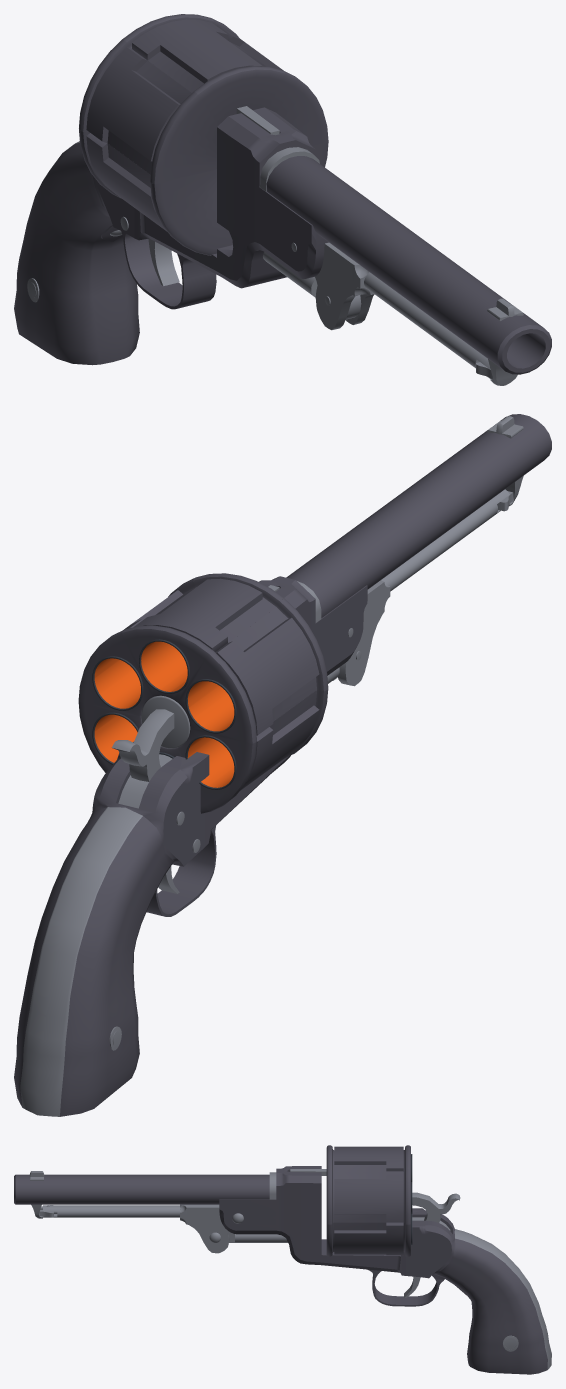
File: gun.fbx
3 renders of one model, top to bottom at view 1: azimuth 30°, elevation 25°; view 2: azimuth 150°, elevation 25°; view 3: azimuth 270°, elevation 25°, orthographic. The views are drawn at different scales.
Parts seen in each view (by area): view 1: gun, 2, 1, 3, 6, 4; view 2: gun, 2, 1, 3, 6, 5, base; view 3: gun, 6, 5, 1.
Boxes of the visible parts, <box> form: gun: <box>14,106,551,385</box>; 2: <box>79,39,217,184</box>; 1: <box>122,14,284,125</box>; 3: <box>79,130,216,252</box>; 6: <box>212,18,328,145</box>; 4: <box>198,215,232,255</box>; gun: <box>14,414,551,1116</box>; 2: <box>178,598,328,743</box>; 1: <box>122,573,284,702</box>; 3: <box>178,689,328,811</box>; 6: <box>78,578,195,716</box>; 5: <box>78,701,142,772</box>; base: <box>141,695,190,748</box>; gun: <box>14,1166,551,1374</box>; 6: <box>326,1169,412,1224</box>; 5: <box>326,1214,412,1256</box>; 1: <box>326,1145,412,1181</box>.
Bounding box in the file's own units: 161 × 342 × 775.
